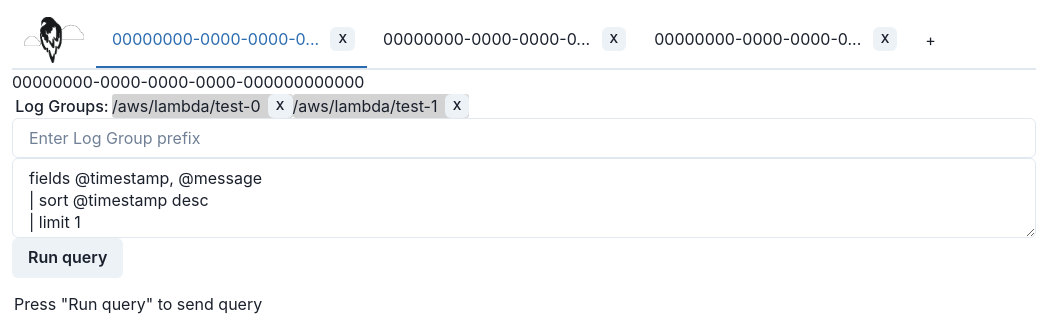
Test case: dashboard › should handle error performing query
This screenshot has width=1048, height=331.
Expected: the text "Error performing query: mock failure" is not shown
Click the button "Run query" at [68, 258], box [12, 238, 123, 278]
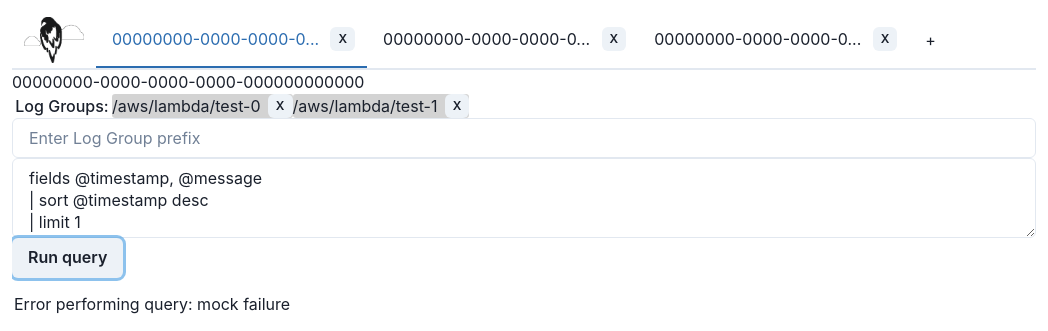
Result: the text "Error performing query: mock failure" is shown at [14, 294, 290, 314]
